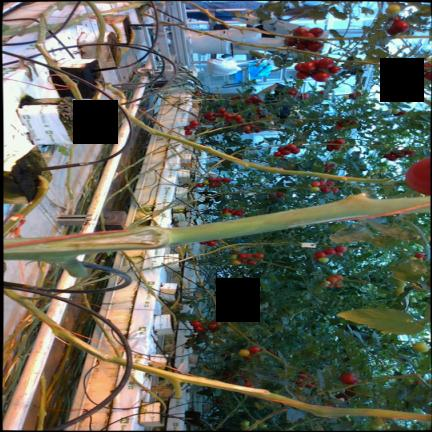MainStem: (2, 195, 430, 261), (121, 106, 383, 184), (131, 362, 431, 422), (3, 290, 125, 366)
tomato: (406, 158, 430, 195), (339, 373, 357, 384), (392, 21, 409, 32), (316, 58, 334, 68), (306, 41, 322, 52), (311, 72, 330, 81), (412, 342, 429, 352), (386, 4, 401, 14), (301, 62, 316, 72), (309, 27, 323, 37), (301, 32, 314, 42), (386, 26, 399, 35), (294, 27, 307, 35), (286, 38, 297, 46), (328, 66, 340, 73), (296, 72, 308, 79), (323, 248, 335, 255), (238, 349, 250, 356), (249, 346, 261, 353), (284, 144, 297, 150), (295, 43, 306, 50), (310, 181, 325, 186), (334, 246, 346, 252), (326, 277, 338, 283), (314, 251, 325, 257), (190, 321, 201, 327), (294, 63, 302, 71), (310, 181, 320, 187), (280, 149, 290, 155), (246, 260, 257, 265), (321, 187, 330, 193), (318, 257, 328, 262), (243, 355, 253, 360), (194, 326, 204, 331), (231, 260, 241, 265), (253, 253, 263, 258), (310, 187, 319, 192), (290, 148, 299, 153), (332, 275, 342, 279), (326, 181, 334, 186), (274, 151, 282, 156), (332, 187, 338, 193), (238, 254, 246, 258), (246, 253, 252, 258), (231, 255, 237, 259), (278, 147, 283, 151)
